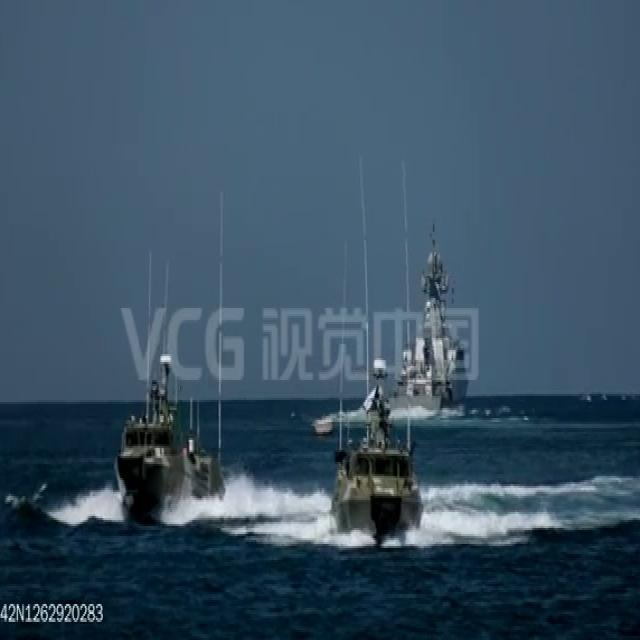houseboat: (116, 349, 224, 519), (328, 373, 418, 541)
navalvessels: (396, 244, 471, 415)
